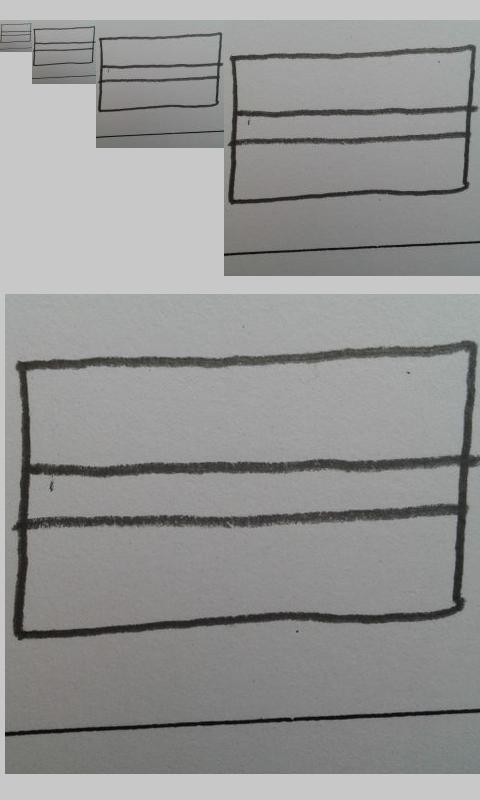list_view: (8, 341, 480, 641), (227, 46, 478, 206), (98, 32, 222, 113), (33, 26, 95, 67), (1, 23, 32, 44)
